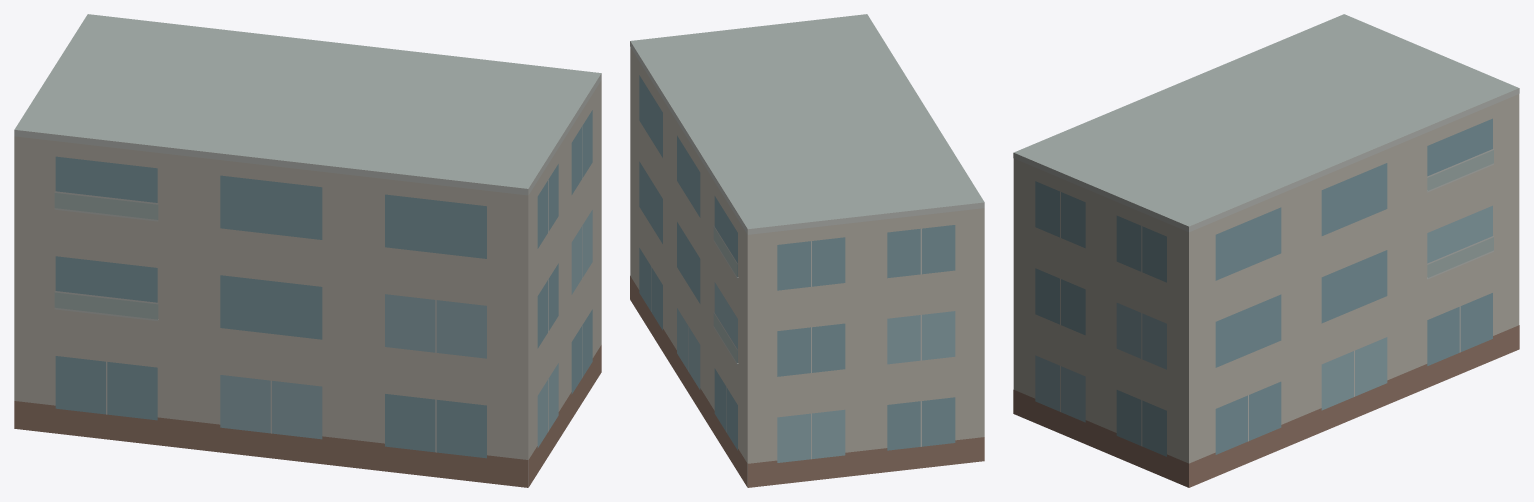
Rendered from survey-upis-32811433.glb.
The picture shows the model from 3 angles, left to right: view 1: azimuth 30°, elevation 25°; view 2: azimuth 150°, elevation 25°; view 3: azimuth 270°, elevation 25°; orthographic projection. The views are drawn at different scales.
Visible parts, largest first — view 1: survey-upis-32811433.tmp; view 2: survey-upis-32811433.tmp; view 3: survey-upis-32811433.tmp.
Part boxes in pixels (bbox=[...]): survey-upis-32811433.tmp: bbox=[14, 14, 601, 487]; survey-upis-32811433.tmp: bbox=[630, 14, 984, 487]; survey-upis-32811433.tmp: bbox=[1013, 14, 1519, 487].
Size of the model in its own units: 19.38 by 11.1 by 19.48.
